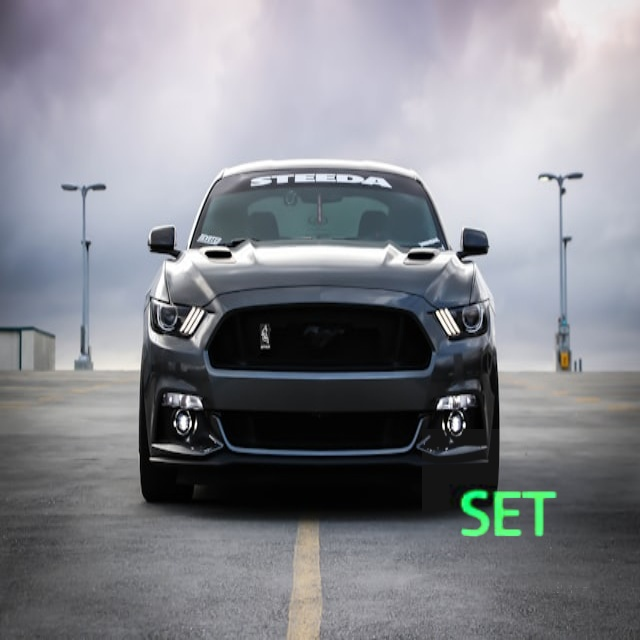symbol: (422, 429, 595, 602)
